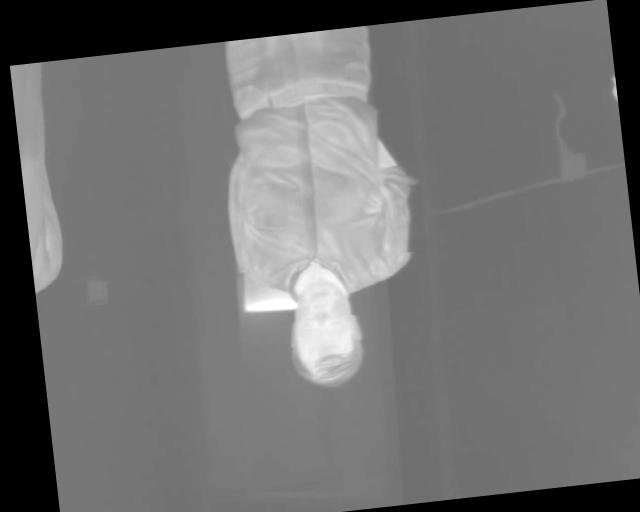face: (282, 277, 370, 392)
